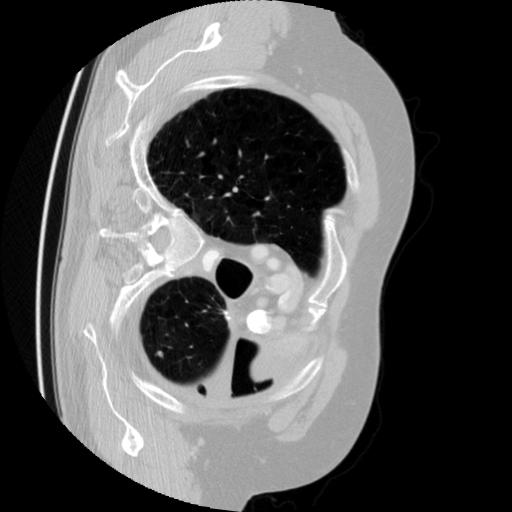nodule: (155, 350, 168, 363)
